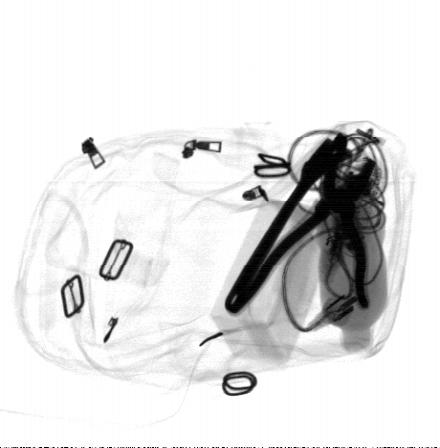Pliers: (228, 151, 378, 318)
Wrench: (226, 133, 353, 312)
